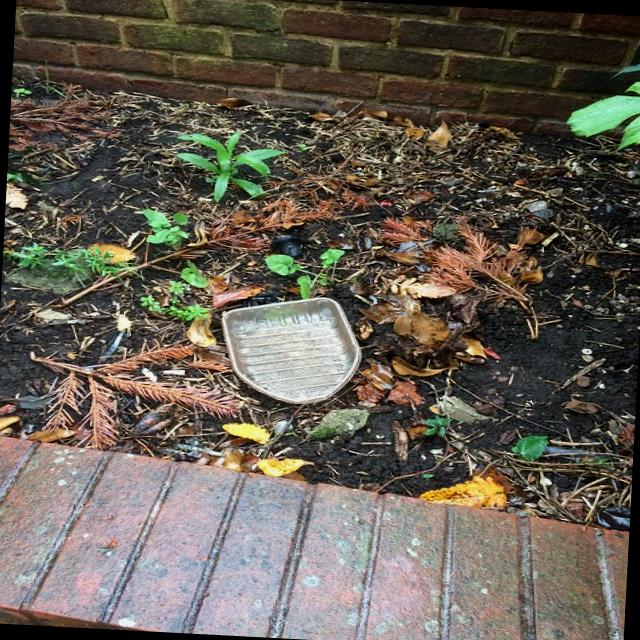Trash: (216, 292, 366, 410), (266, 234, 308, 262), (526, 198, 558, 225)
